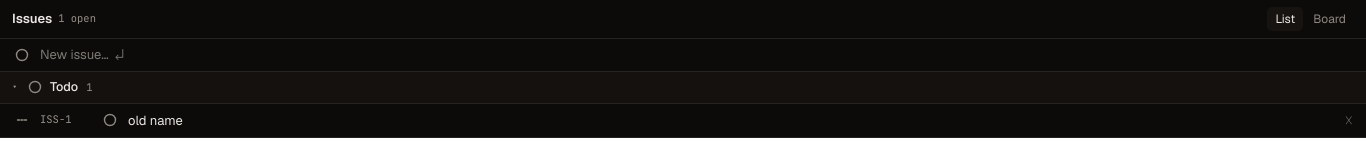
Scenario: the widget (the serve knows the issue kind: true) › renames on click and Enter, and deletes
The width and height of the screenshot is (1366, 160).
Click the text "old name": (155, 120) [128, 112, 183, 128]
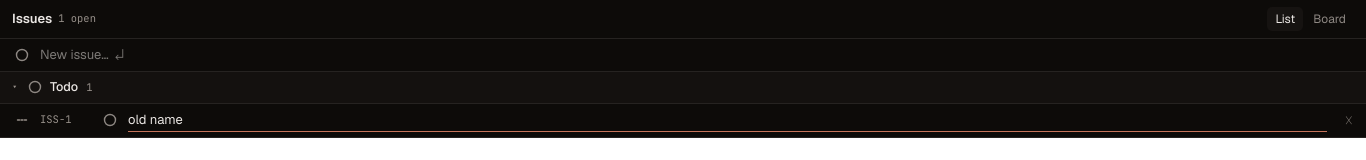
Replace the text in the field with test id "issue-title-input" with "new name": (728, 120) [128, 109, 1327, 132]
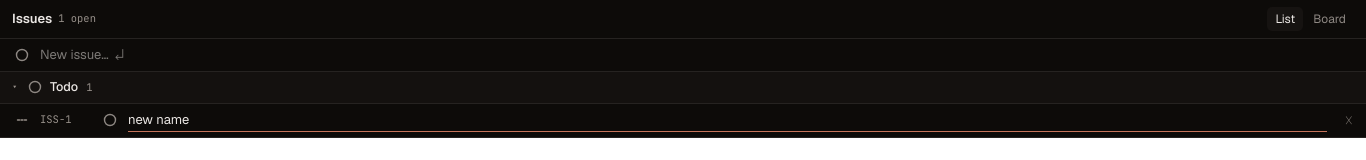
Leave the field with test id "issue-title-input", box [128, 109, 1327, 132]
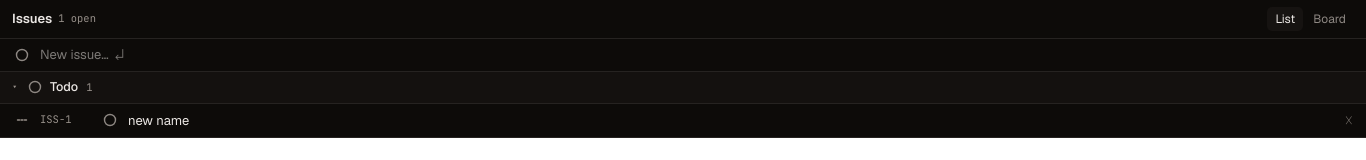
Result: the text "new name" is shown at [128, 112, 189, 128]
Click the button with test id "issue-delete": (1349, 120) [1343, 112, 1354, 128]
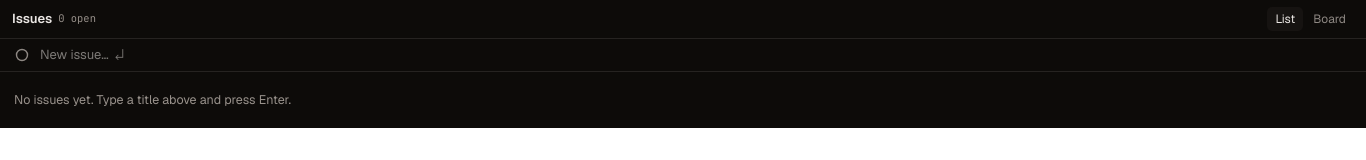
Result: the text with test id "issues-empty" is shown at [14, 91, 291, 108]
